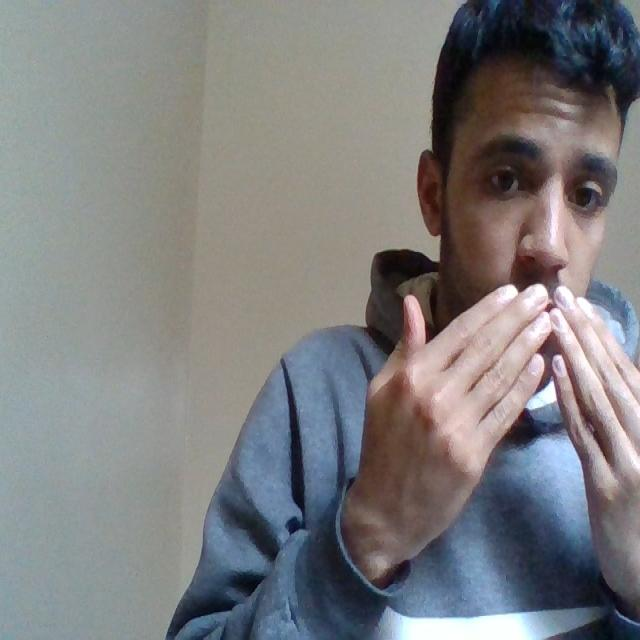Thanks: (333, 274, 639, 618)
